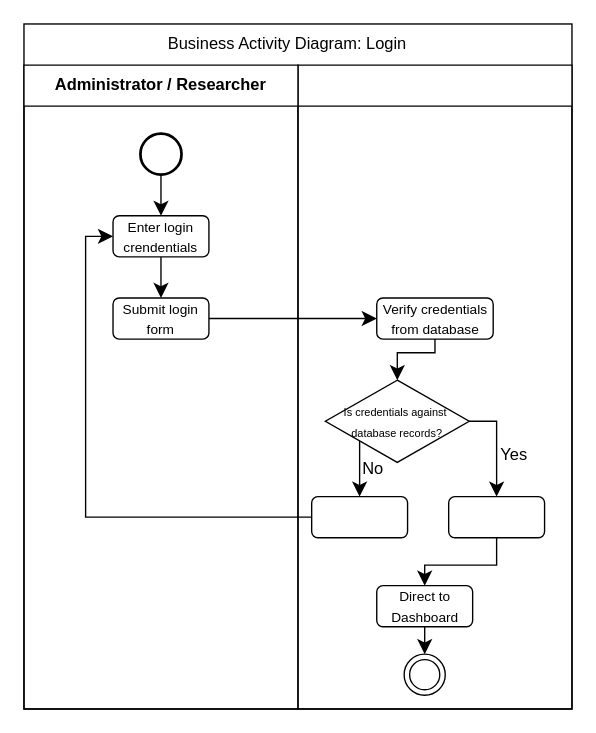
Image size: 596x733. Some labels were removed from this diagram. The box of each missing label's shape, as (x1, y1, x2, y2) in pixels:
Display error message: (310, 495, 408, 538)
Grant access: (447, 495, 545, 538)
Web-Based System for Stress Induction Method: (297, 64, 572, 709)
